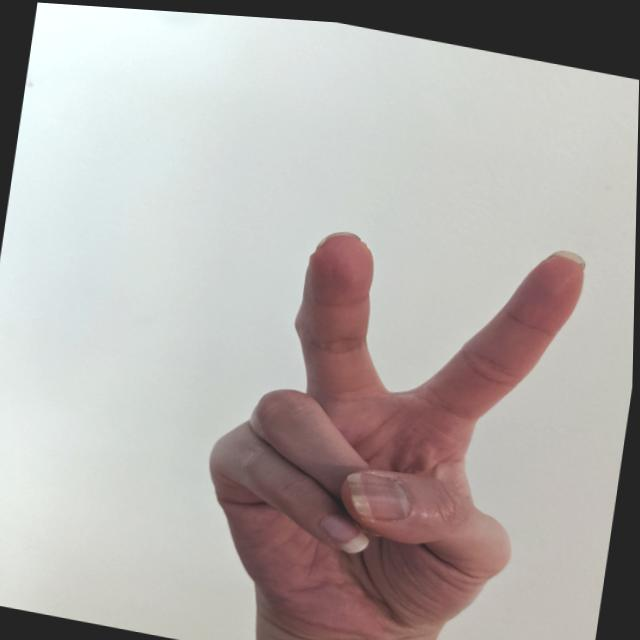V: (177, 169, 604, 639)
